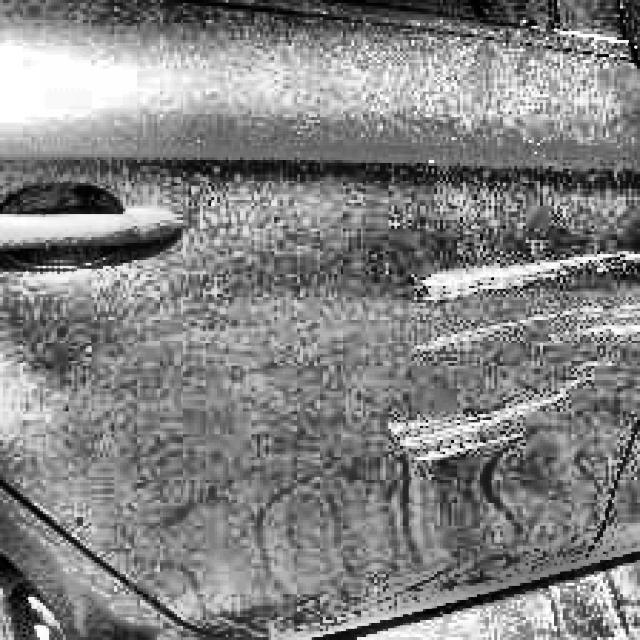door_scratch: (389, 255, 640, 477)
